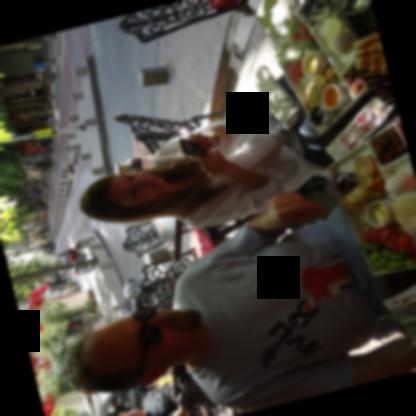handbag: (250, 64, 305, 170)
